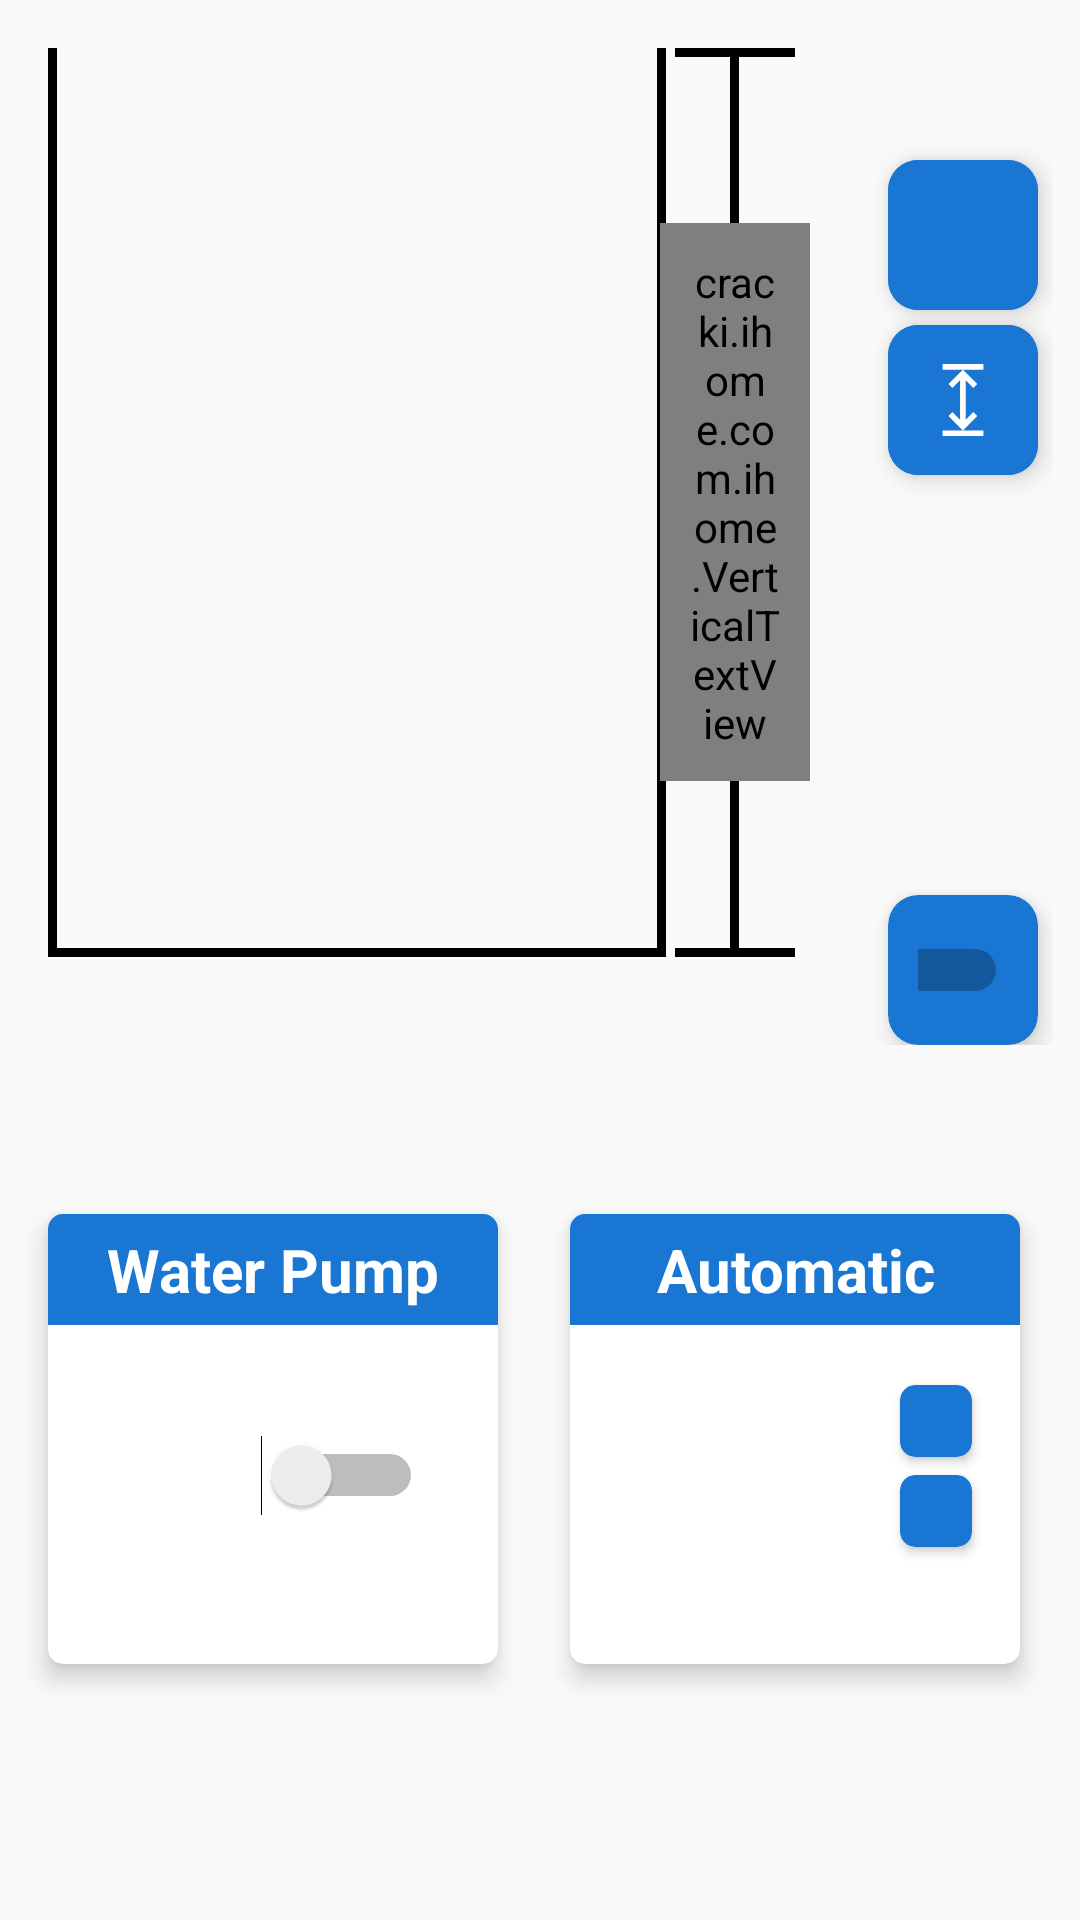

Named icons in this screenshot (1080px×1920px) and their centers, (x,y):
height: (963,400)
